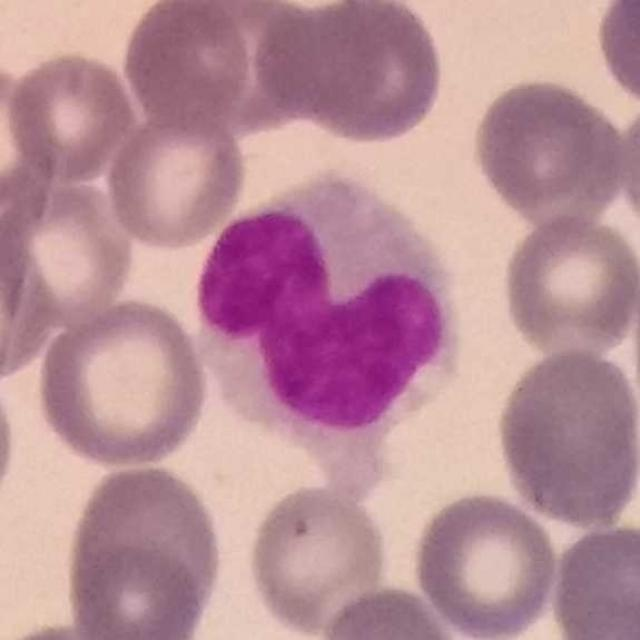mono: (189, 168, 464, 506)
